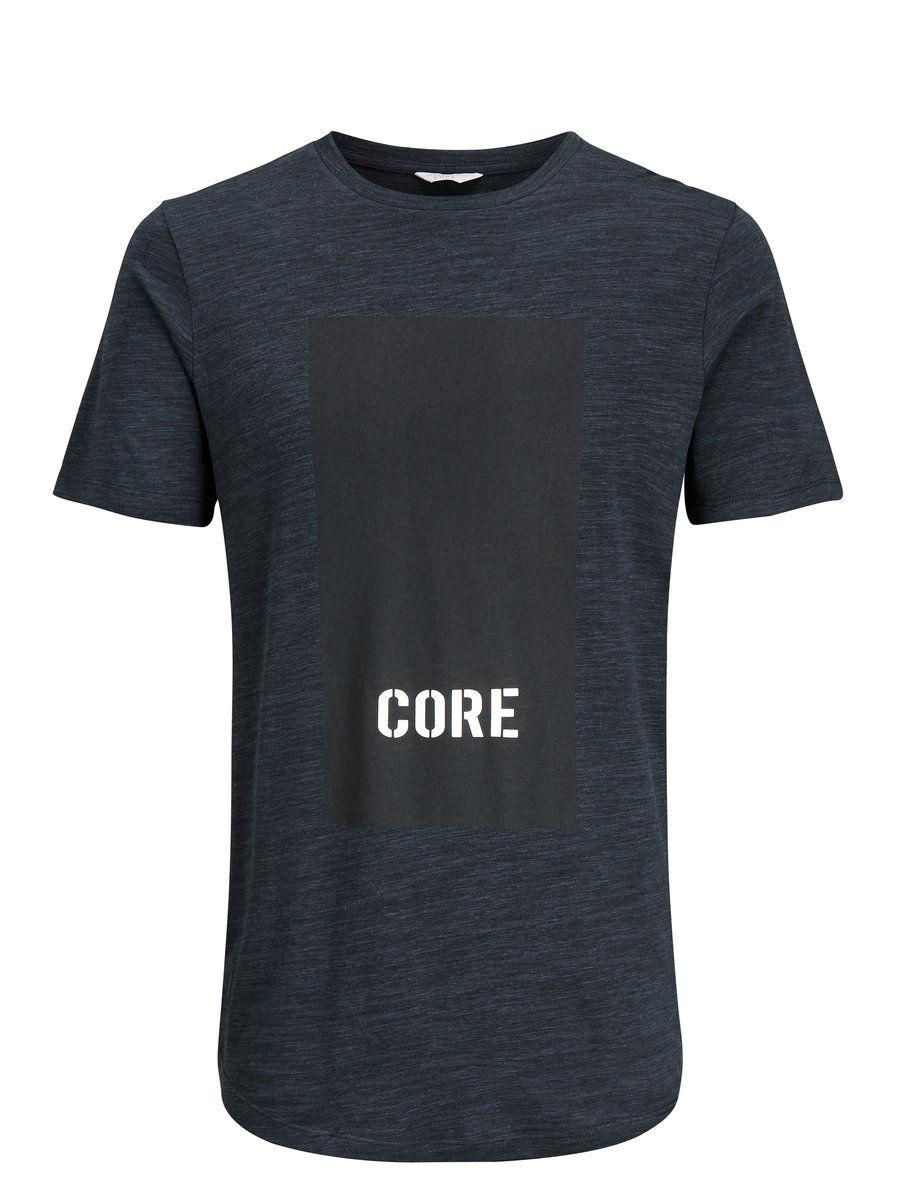teeshirt: (25, 116, 851, 1167)
